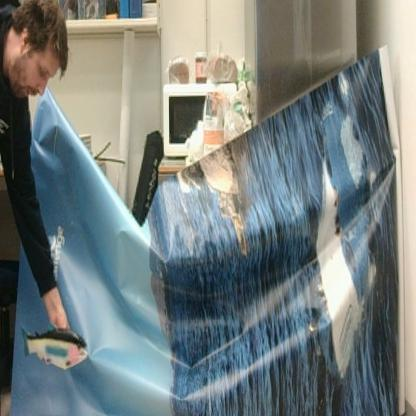rubberfish: (21, 325, 89, 370)
